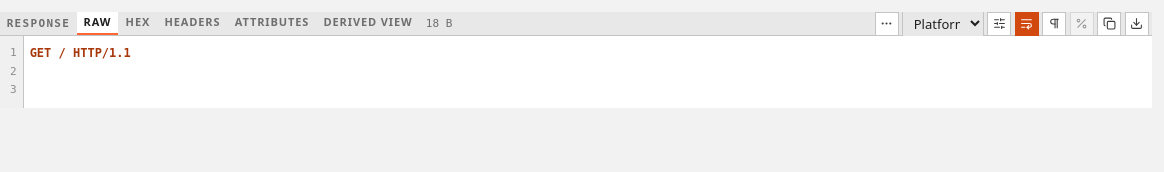
Test: plugin editor tabs in the strip › opening it renders the plugin's text for the stored message, and clicking again closes it
The image size is (1164, 172).
Click the tab "Derived view". click: (368, 24)
box: x1=317 y1=12 x2=419 y2=35
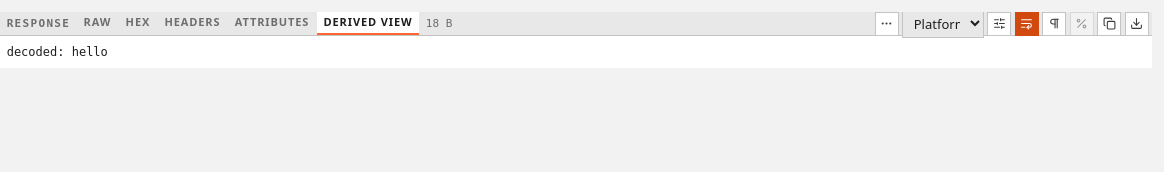
Expected: the text "decoded: hello" is shown, x1=7 y1=45 x2=108 y2=59
Click the tab "Derived view". click: (368, 24)
box: x1=317 y1=12 x2=419 y2=35
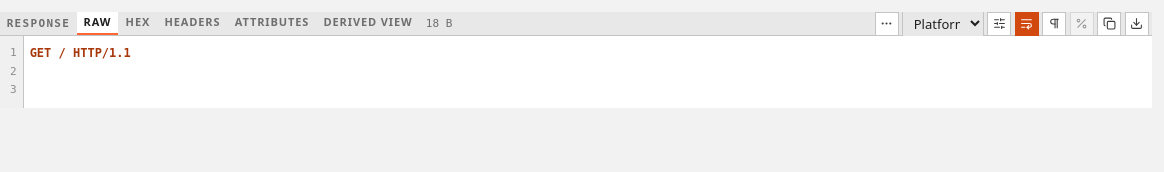
Expected: the text "decoded: hello" is gone
